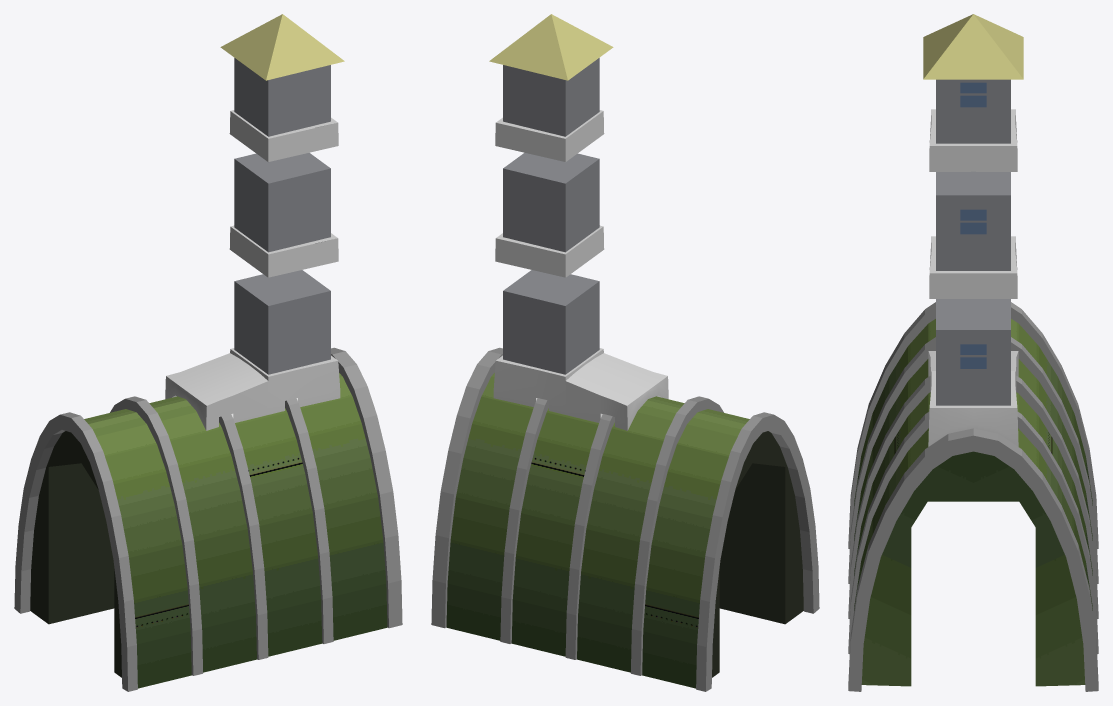
The picture shows the model from 3 angles, left to right: view 1: azimuth 30°, elevation 25°; view 2: azimuth 150°, elevation 25°; view 3: azimuth 270°, elevation 25°; orthographic projection. The views are drawn at different scales.
Parts seen in each view (by area): view 1: Base4, Expansion1, Expansion3, Expansion2; view 2: Base4, Expansion1, Expansion3, Expansion2; view 3: Base4, Expansion3, Expansion1, Expansion2.
Part boxes in pixels (x1,y1,x2,y2): Base4: (14, 347, 402, 691); Expansion1: (165, 270, 340, 430); Expansion3: (220, 14, 344, 161); Expansion2: (229, 152, 338, 277); Base4: (431, 347, 819, 691); Expansion1: (493, 270, 668, 430); Expansion3: (489, 14, 613, 161); Expansion2: (495, 152, 604, 277); Base4: (848, 302, 1098, 691); Expansion3: (923, 14, 1023, 171); Expansion1: (928, 299, 1018, 446); Expansion2: (929, 171, 1017, 298).
Bounding box in the file's own units: 480 × 982 × 345.
